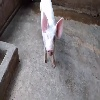heo: (38, 12, 65, 68)
